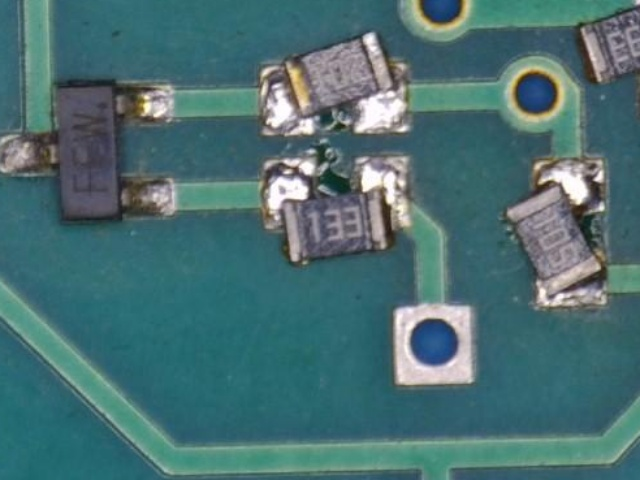pcb_defect: (259, 155, 409, 263), (259, 30, 410, 137), (504, 157, 607, 307), (578, 0, 640, 116)
